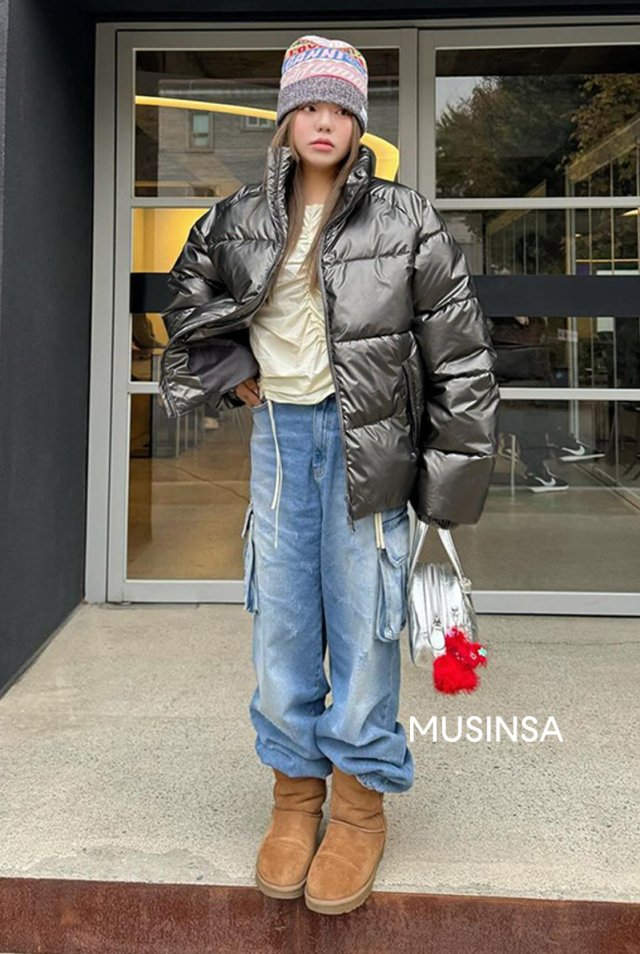Beanie: (272, 34, 379, 126)
Boots: (261, 763, 393, 918)
Bubble jacket: (142, 138, 513, 523)
Handbag: (412, 510, 491, 678)
Jeans: (248, 396, 436, 801)
